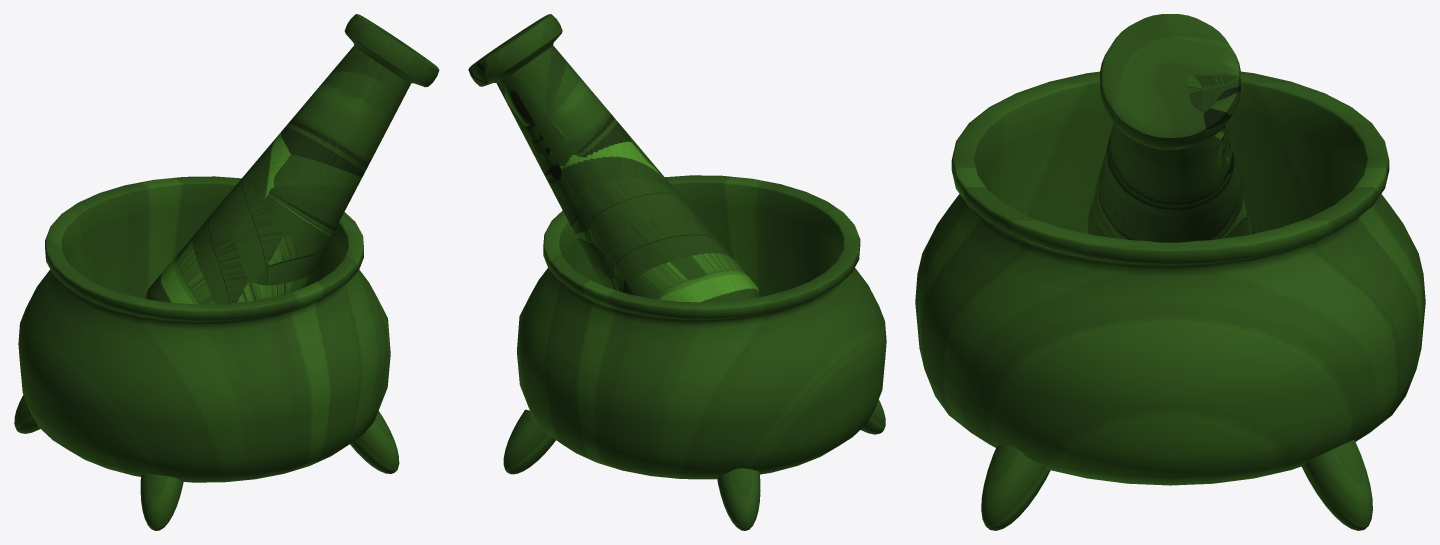
Rendered from Bowl5.fbx.
3 renders of one model, left to right at view 1: azimuth 30°, elevation 25°; view 2: azimuth 150°, elevation 25°; view 3: azimuth 270°, elevation 25°, orthographic. The views are drawn at different scales.
Visible parts, largest first — view 1: Bowl5, Pestle5; view 2: Bowl5, Pestle5; view 3: Bowl5, Pestle5.
Boxes of the visible parts, left/top/right/bottom form: Bowl5: left=14, top=176, right=399, bottom=530; Pestle5: left=145, top=14, right=439, bottom=304; Bowl5: left=503, top=175, right=886, bottom=530; Pestle5: left=468, top=14, right=760, bottom=302; Bowl5: left=915, top=71, right=1425, bottom=530; Pestle5: left=1083, top=14, right=1257, bottom=242.
Bounding box in the file's own units: 459 × 447 × 382.
